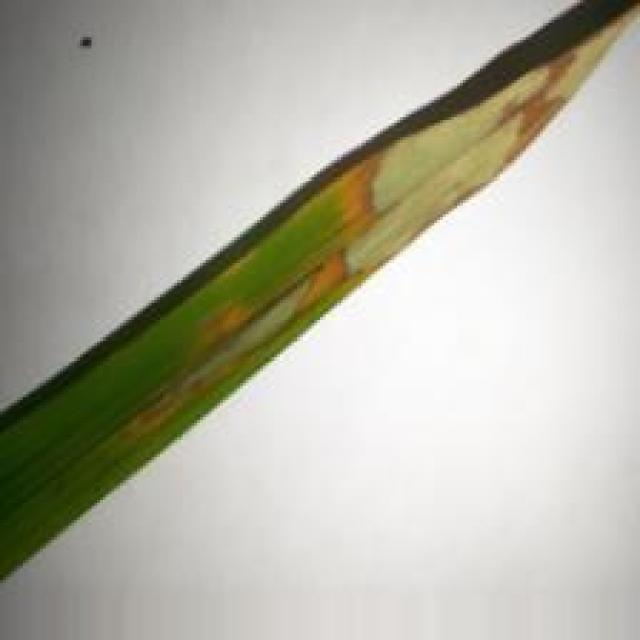Leaf_Scald: (136, 1, 640, 442)
